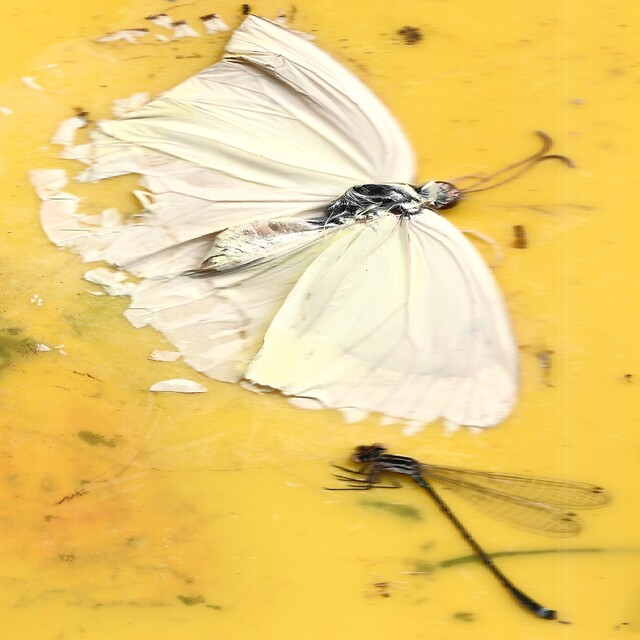Lepidoptera: (29, 18, 576, 430)
Odonata: (327, 443, 611, 622)
